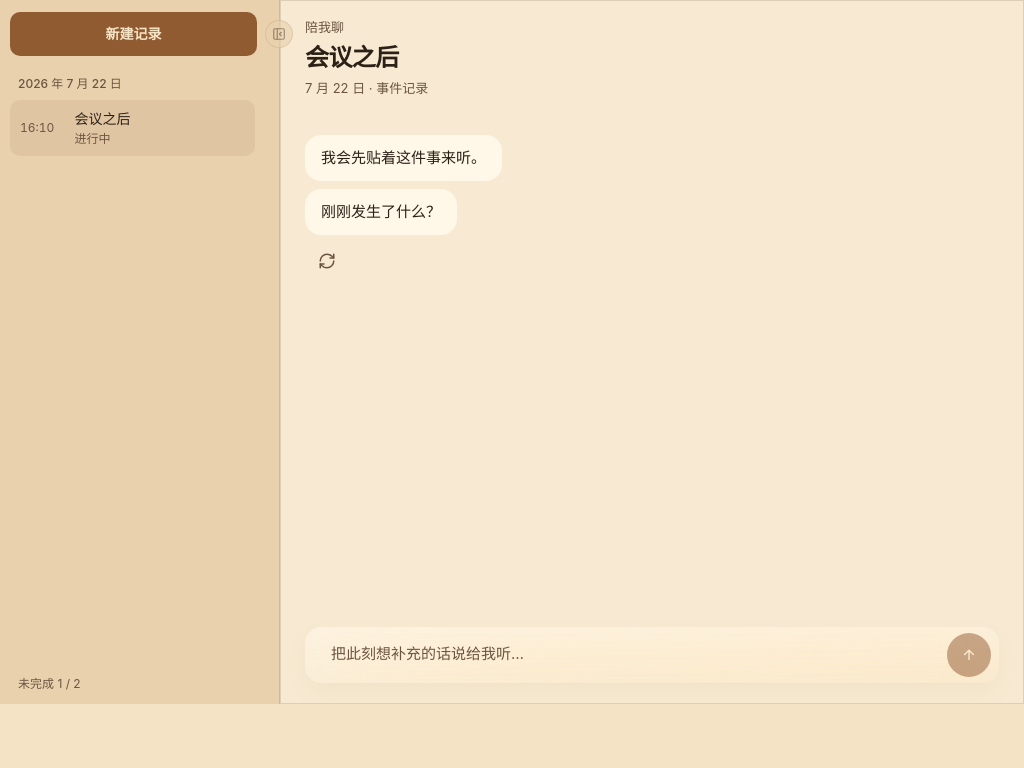
Test: EventCenteredInterviewWorkspace › blocks an action that is no longer allowed before sending it to the server
Click the button named "重新生成".
click(327, 261)  # box left=305, top=239, right=349, bottom=283
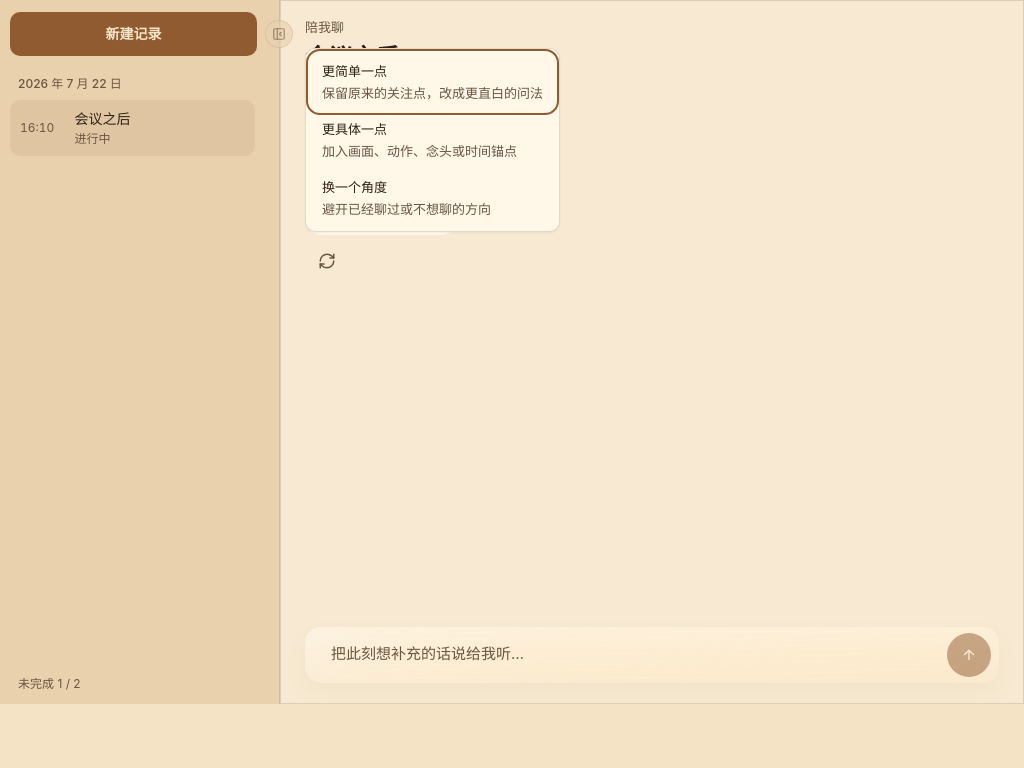
Click the menu item "更简单一点 保留原来的关注点，改成更直白的问法".
click(432, 82)  # box left=310, top=53, right=555, bottom=111
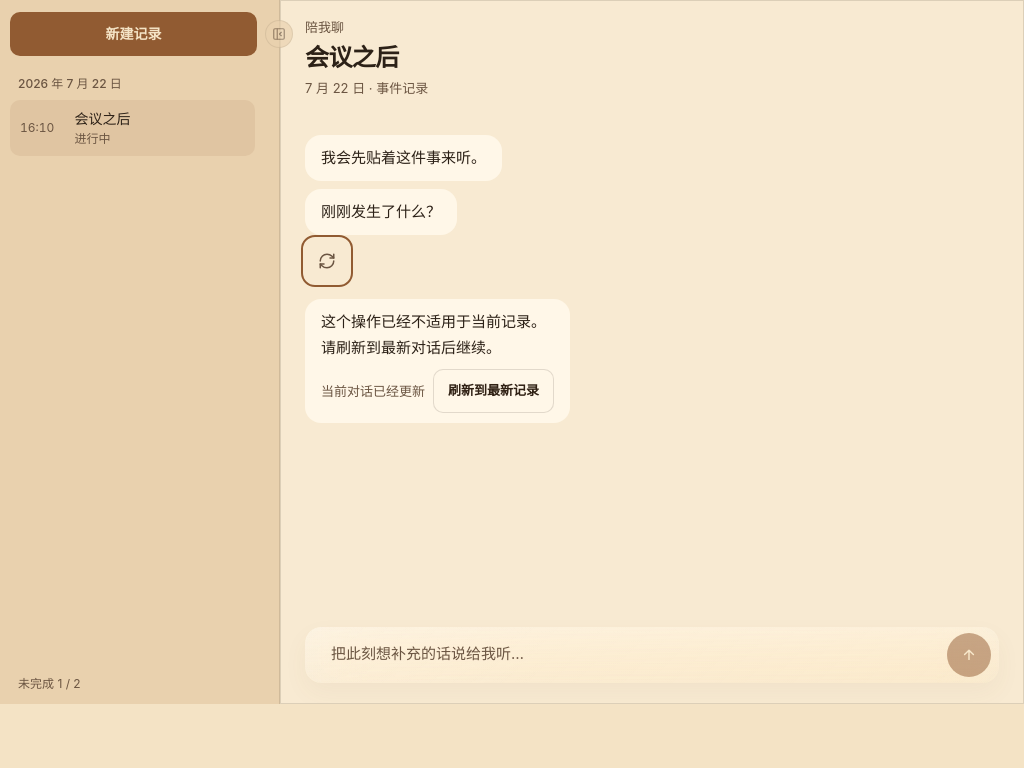
Expected: the message shows "这个操作已经不适用于当前记录。", left=321, top=312, right=546, bottom=357
